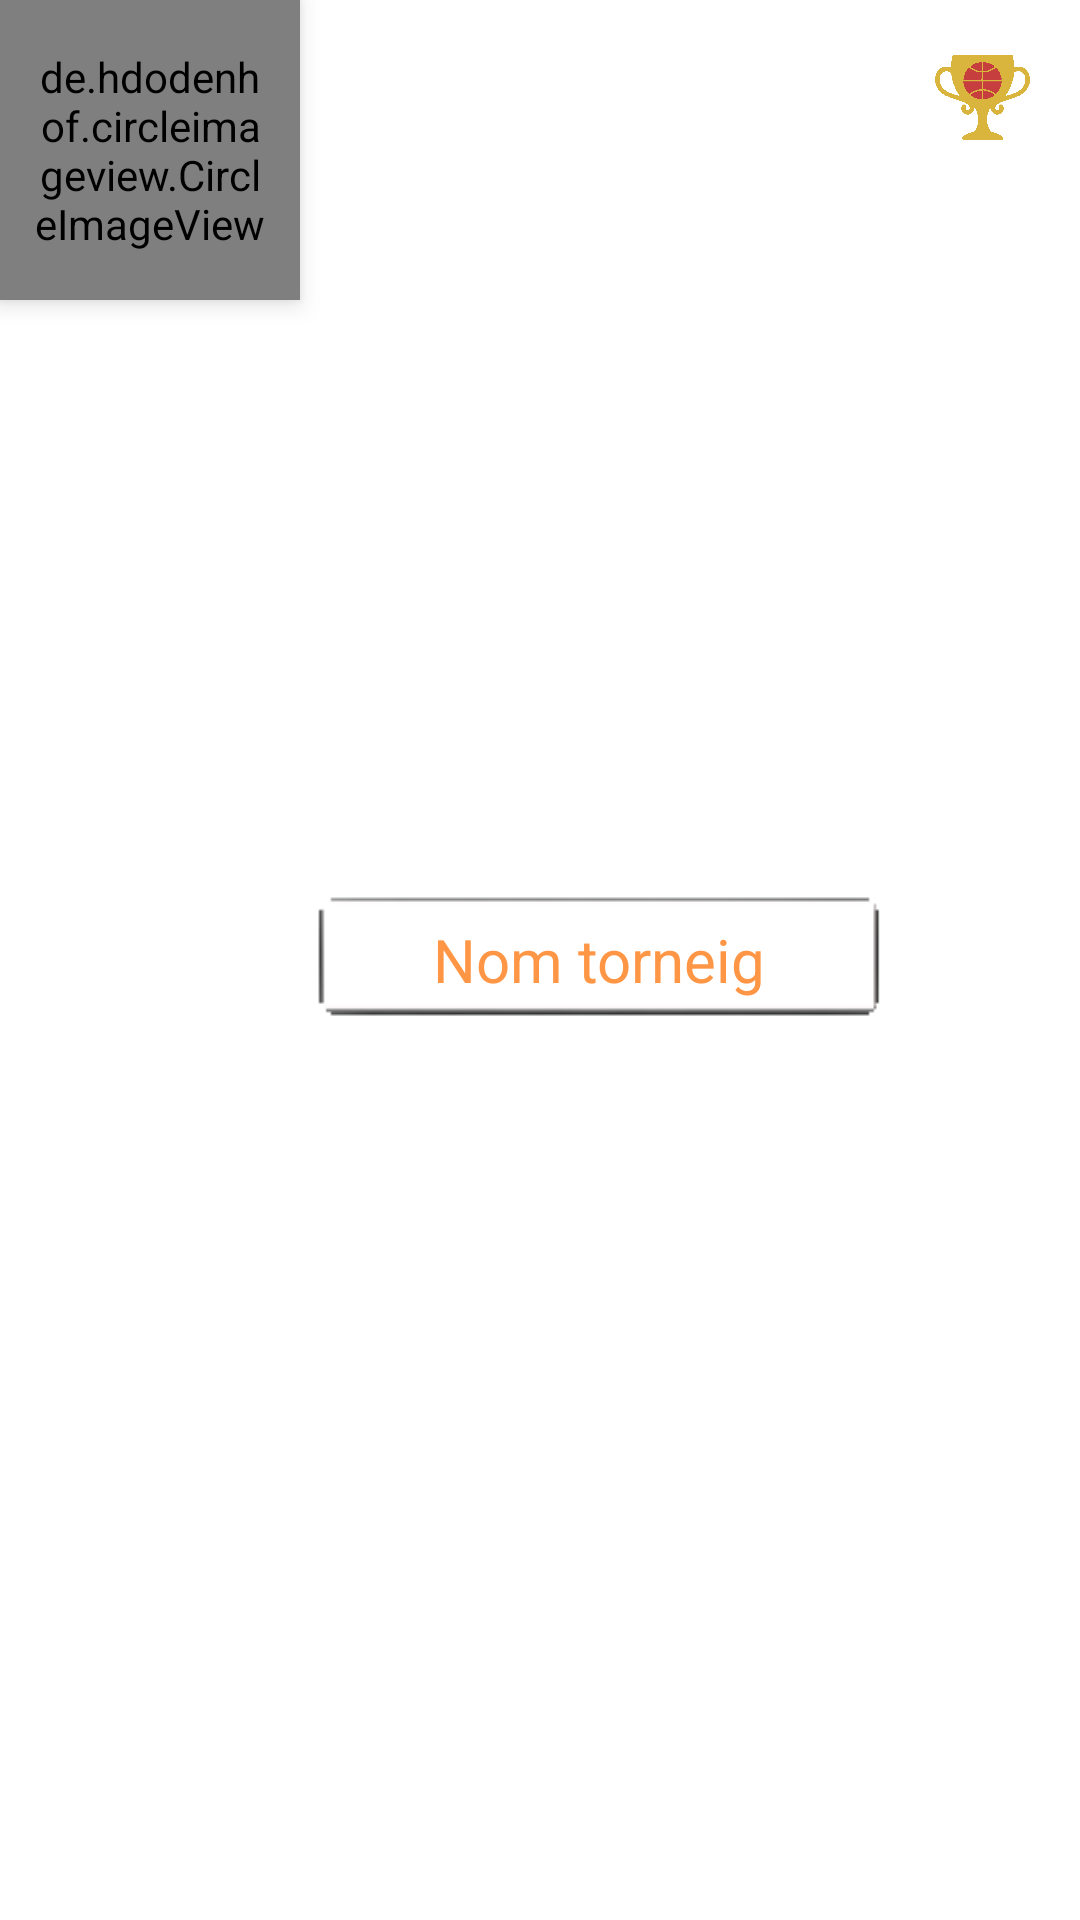

Icon bounding boxes for this 1080 x 1920 phone screenshot, format (x1, y1, x2, y2):
trofeu: (935, 55, 1030, 140)
